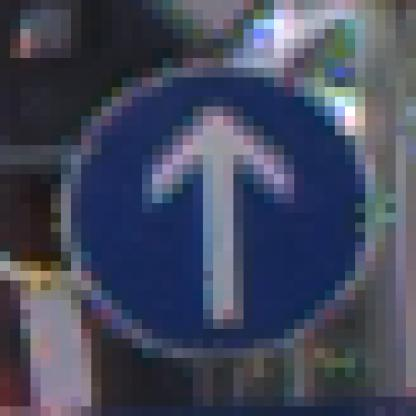AheadOnly: (52, 49, 366, 359)
